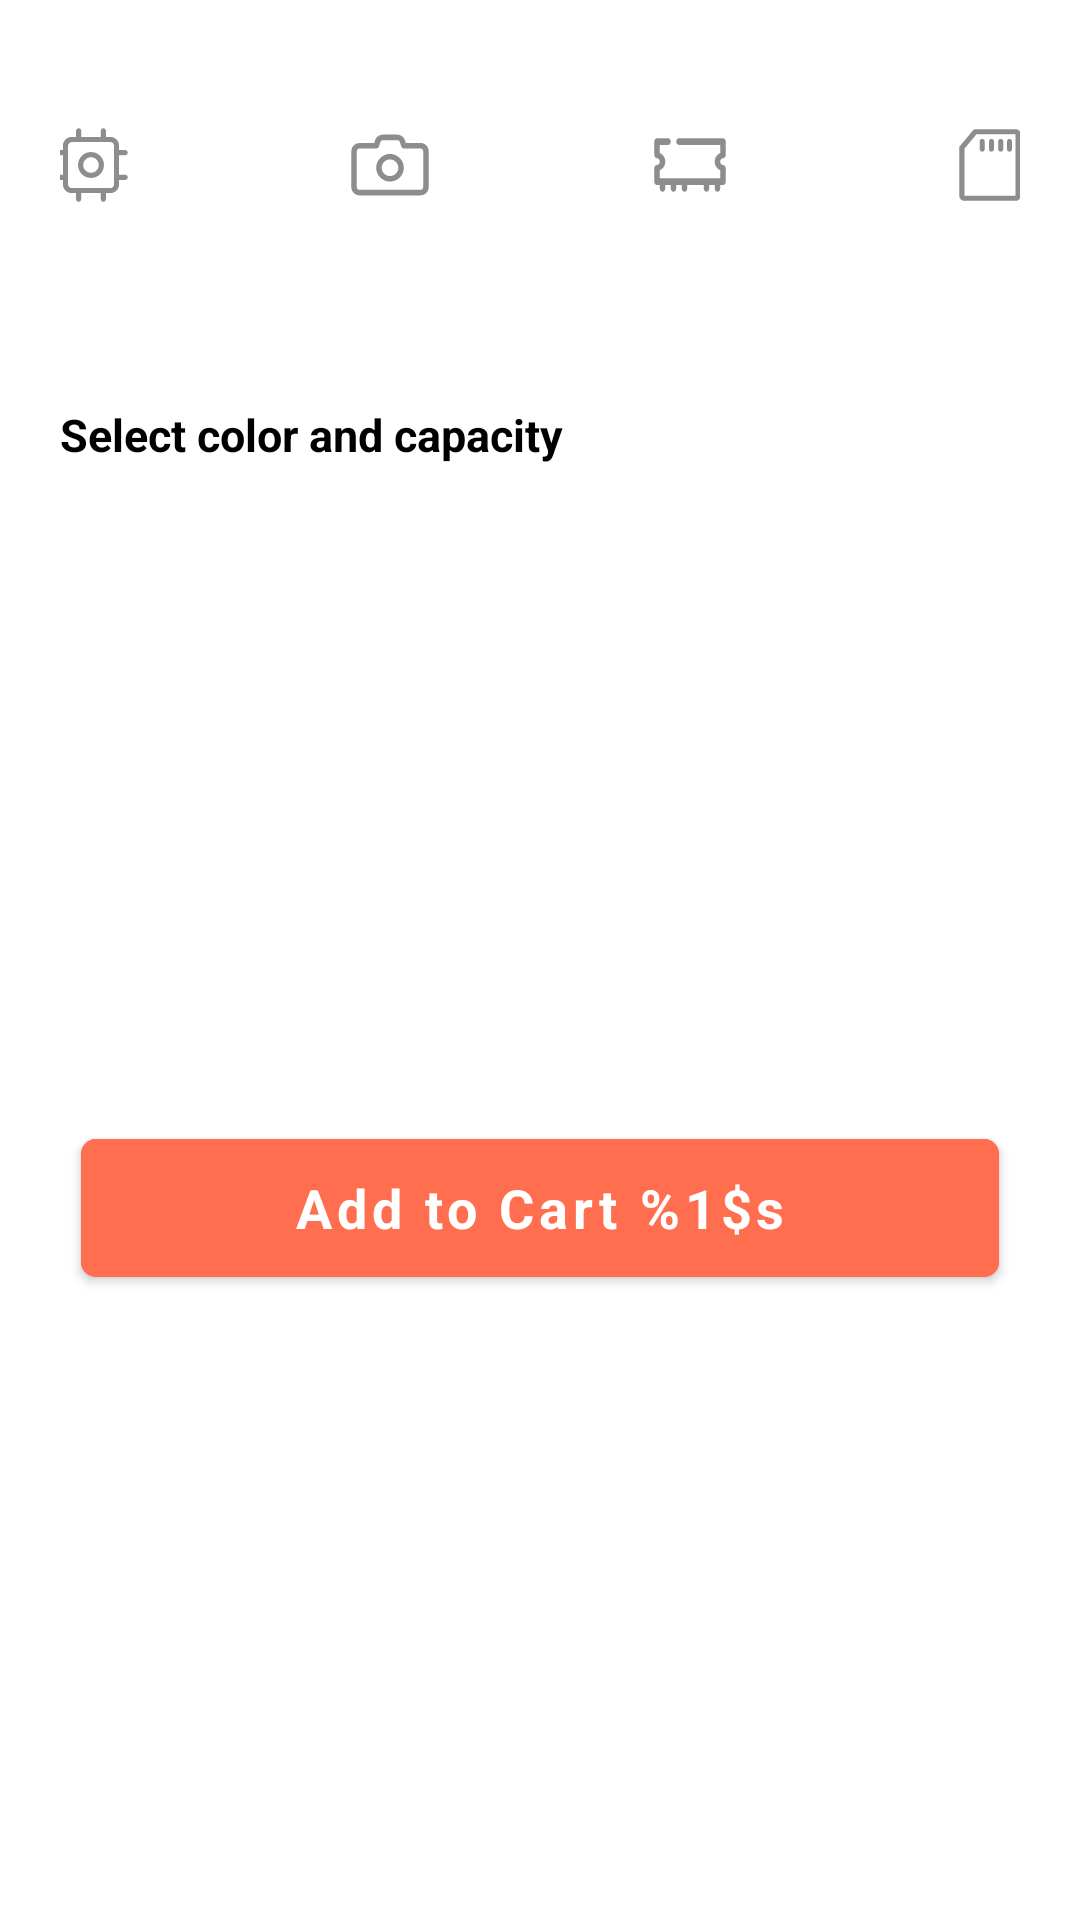

Locate icon controls on the screen. Image size 1080px×1920px, boxes as (x1, y1, x2, y2).
camera: (351, 134, 429, 196)
cpu: (60, 128, 128, 202)
ram: (654, 138, 726, 192)
rom: (959, 129, 1020, 201)
